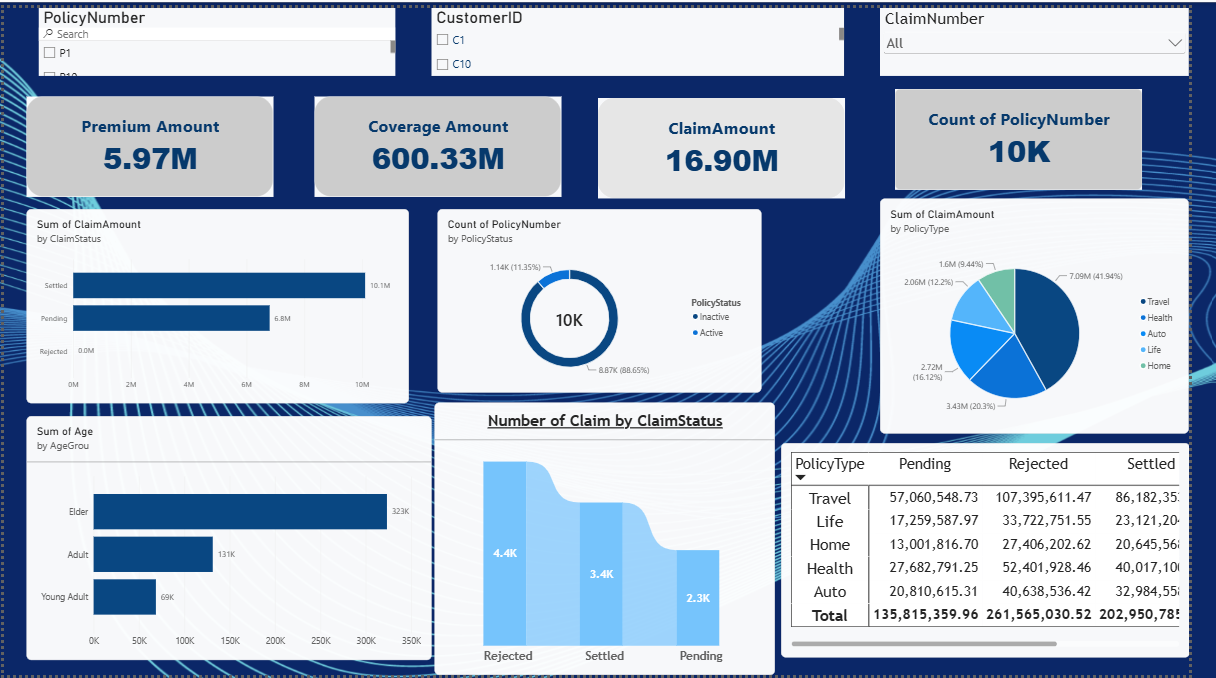

The dashboard page shown, as its layout file describes it:
{"tool":"powerbi","page":{"name":"ANALYTICS DASHBOARD","canvas":[1920,1080],"ordinal":0},"visuals":[{"type":"cardVisual","fields":{"Data":["Sum(InsuranceData.PremiumAmount)"]},"box":[36.6,143.9,399.9,162.9],"z":0},{"type":"cardVisual","fields":{"Data":["Sum(InsuranceData.CoverageAmount)"]},"box":[502.4,143.9,399.9,162.9],"z":1000},{"type":"cardVisual","fields":{"Data":["Sum(InsuranceData.ClaimAmount)"]},"box":[961,144.6,399.9,162.9],"z":2000},{"type":"cardVisual","title":"Total Policies","fields":{"Data":["Count(InsuranceData.PolicyNumber)"]},"box":[1443.9,131.7,400,163],"z":3000},{"type":"barChart","fields":{"Category":["InsuranceData.ClaimStatus"],"Y":["Sum(InsuranceData.ClaimAmount)"]},"box":[36.6,324.4,619.5,314.6],"z":4000},{"type":"barChart","fields":{"Category":["InsuranceData.AgeGrou"],"Y":["Sum(InsuranceData.Age)"]},"box":[36.6,661,656.1,395.1],"z":5000},{"type":"donutChart","fields":{"Category":["InsuranceData.PolicyStatus"],"Y":["CountNonNull(InsuranceData.PolicyNumber)"]},"box":[702.4,324.4,524.4,297.6],"z":6000},{"type":"pieChart","fields":{"Category":["InsuranceData.PolicyType"],"Y":["Sum(InsuranceData.ClaimAmount)"]},"box":[1419.5,307.3,500,380.5],"z":7000},{"type":"slicer","fields":{"Values":["InsuranceData.PolicyNumber"]},"box":[56.1,0,578,109.8],"z":8000},{"type":"slicer","fields":{"Values":["InsuranceData.CustomerID"]},"box":[692.7,0,668.3,109.8],"z":9000},{"type":"slicer","fields":{"Values":["InsuranceData.ClaimNumber"]},"box":[1419.5,0,500,109.8],"z":10000},{"type":"ribbonChart","title":"Number of  Claim by ClaimStatus","fields":{"Category":["InsuranceData.ClaimStatus"],"Y":["CountNonNull(InsuranceData.ClaimStatus)"]},"box":[697.6,638.5,551.2,441.5],"z":11000},{"type":"pivotTable","fields":{"Columns":["InsuranceData.ClaimStatus"],"Rows":["InsuranceData.PolicyType"],"Values":["Sum(InsuranceData.CoverageAmount)"]},"box":[1258.5,704.9,662,347],"z":12000}]}

Visuals, with their boxes in screenshot pixels (x1, y1, x2, y2), scaled from the page's 1920x1080 canvas onto the 1216x678 screenshot:
cardVisual - Sum(InsuranceData.PremiumAmount): x1=23, y1=90, x2=276, y2=193
cardVisual - Sum(InsuranceData.CoverageAmount): x1=318, y1=90, x2=571, y2=193
cardVisual - Sum(InsuranceData.ClaimAmount): x1=609, y1=91, x2=862, y2=193
"Total Policies" cardVisual: x1=914, y1=83, x2=1168, y2=185
barChart - InsuranceData.ClaimStatus x Sum(InsuranceData.ClaimAmount): x1=23, y1=204, x2=416, y2=401
barChart - InsuranceData.AgeGrou x Sum(InsuranceData.Age): x1=23, y1=415, x2=439, y2=663
donutChart - InsuranceData.PolicyStatus x CountNonNull(InsuranceData.PolicyNumber): x1=445, y1=204, x2=777, y2=390
pieChart - InsuranceData.PolicyType x Sum(InsuranceData.ClaimAmount): x1=899, y1=193, x2=1215, y2=432
slicer - InsuranceData.PolicyNumber: x1=36, y1=0, x2=402, y2=69
slicer - InsuranceData.CustomerID: x1=439, y1=0, x2=862, y2=69
slicer - InsuranceData.ClaimNumber: x1=899, y1=0, x2=1215, y2=69
"Number of  Claim by ClaimStatus" ribbonChart: x1=442, y1=401, x2=791, y2=677
pivotTable - InsuranceData.ClaimStatus x InsuranceData.PolicyType: x1=797, y1=443, x2=1215, y2=660
